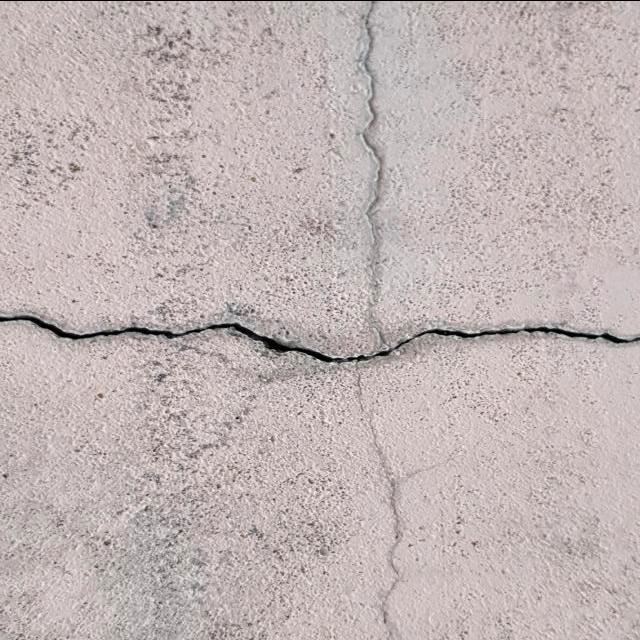SurfaceCrack: (2, 268, 640, 413)
